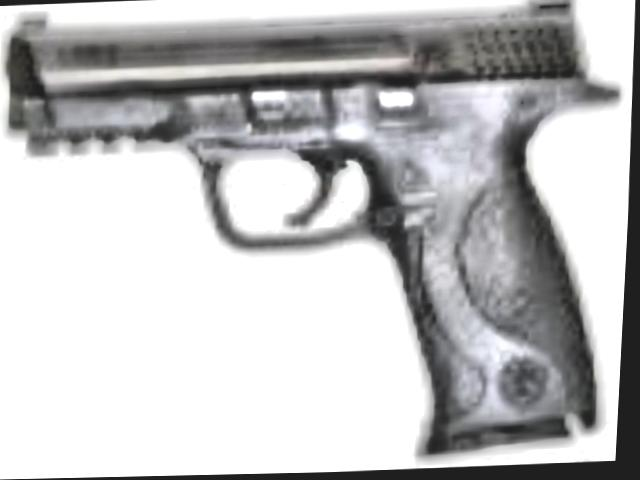pistol: (0, 0, 620, 469)
